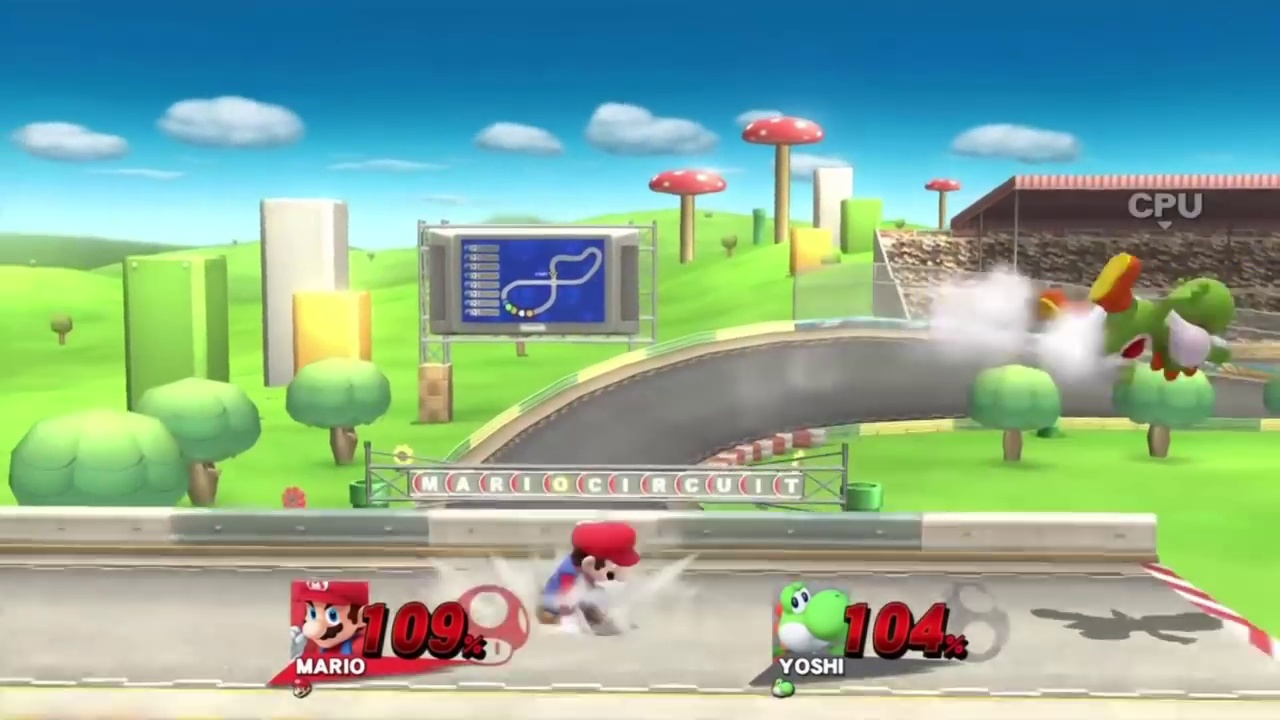Mario: (536, 521, 641, 631)
